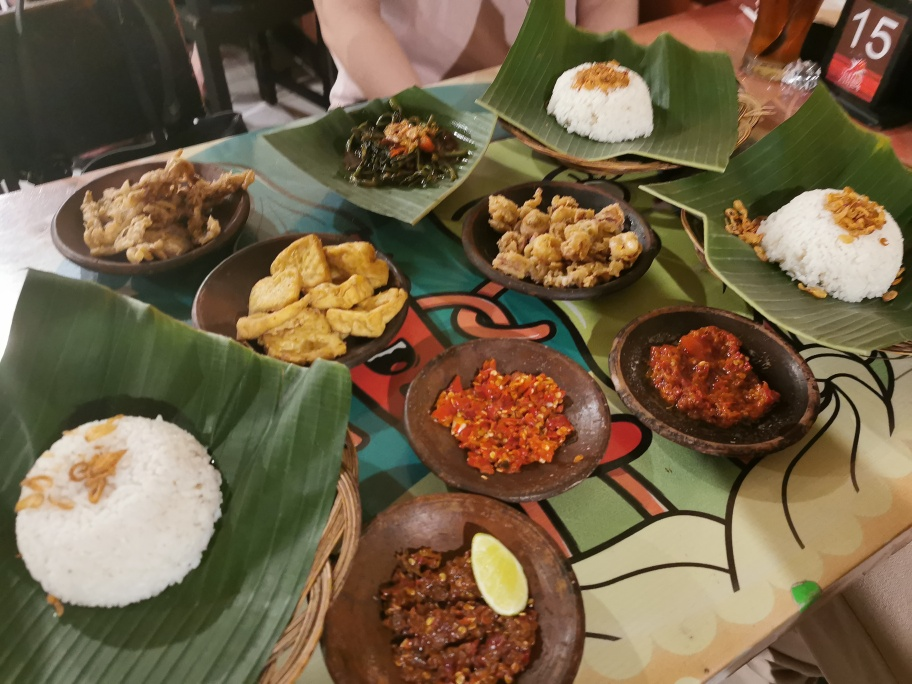nasi putih: (12, 412, 231, 610), (755, 179, 912, 318), (550, 55, 656, 144)
